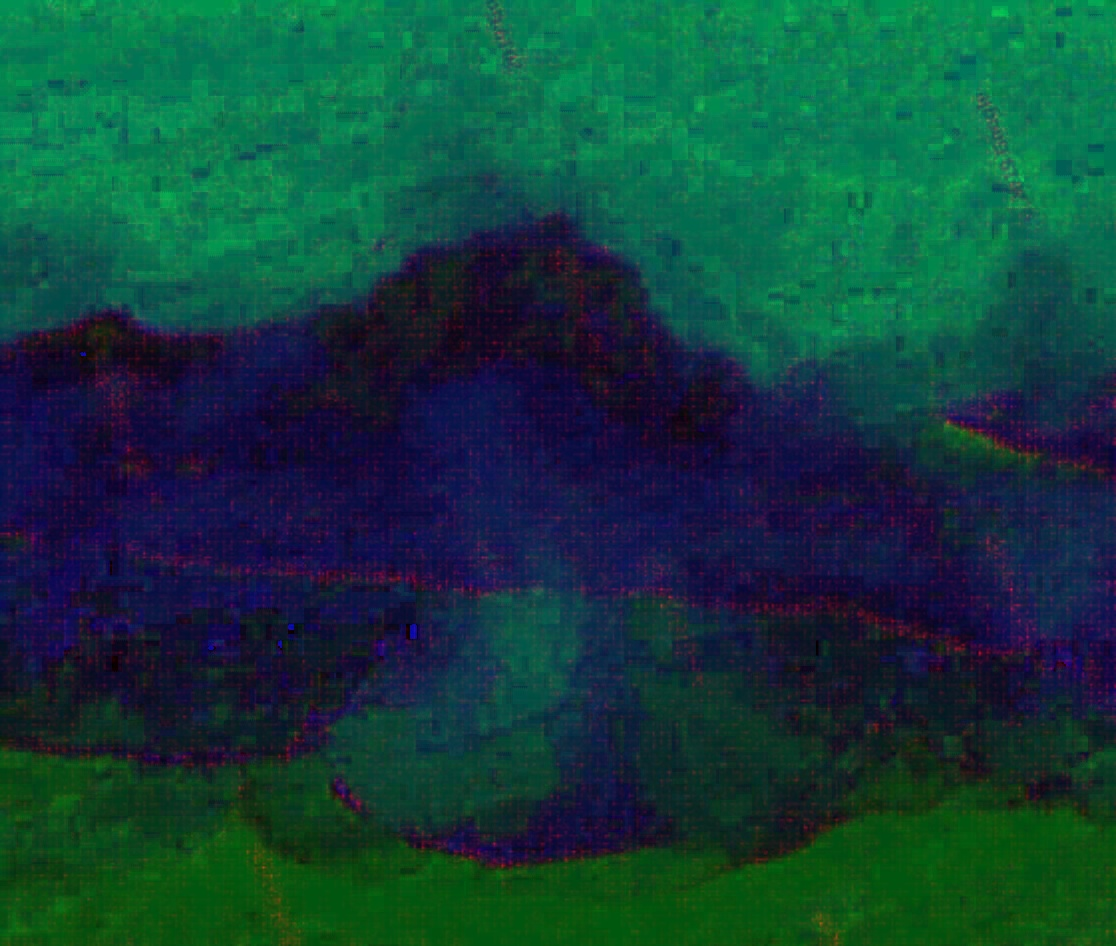rip_current: (374, 170, 658, 835)
